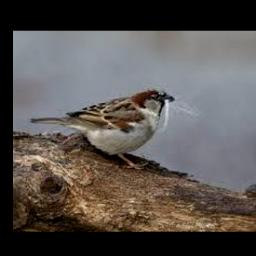Sparrow: (29, 87, 175, 169)
